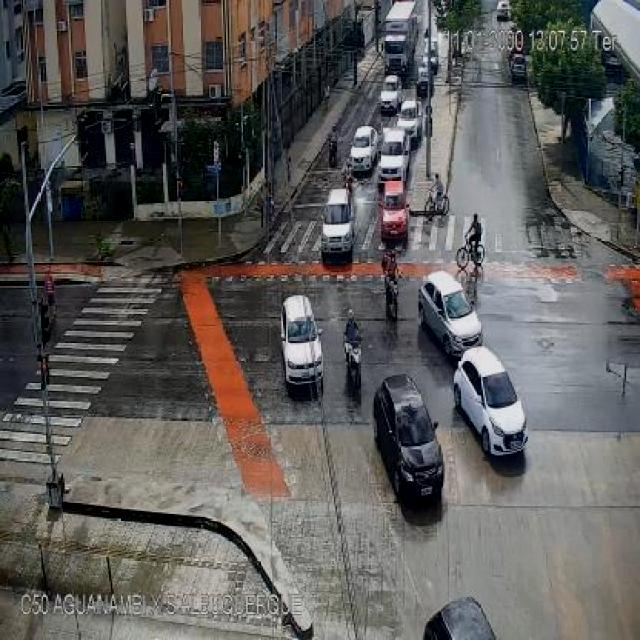Car: (373, 378, 445, 503), (454, 344, 528, 452), (420, 271, 482, 355), (280, 294, 324, 388), (321, 190, 355, 262), (380, 181, 410, 240), (378, 127, 408, 178), (349, 124, 380, 172), (396, 100, 423, 143), (379, 77, 403, 115), (424, 36, 438, 72), (510, 55, 527, 82)
Cycle: (457, 238, 484, 269)
Truck: (383, 1, 418, 76)
